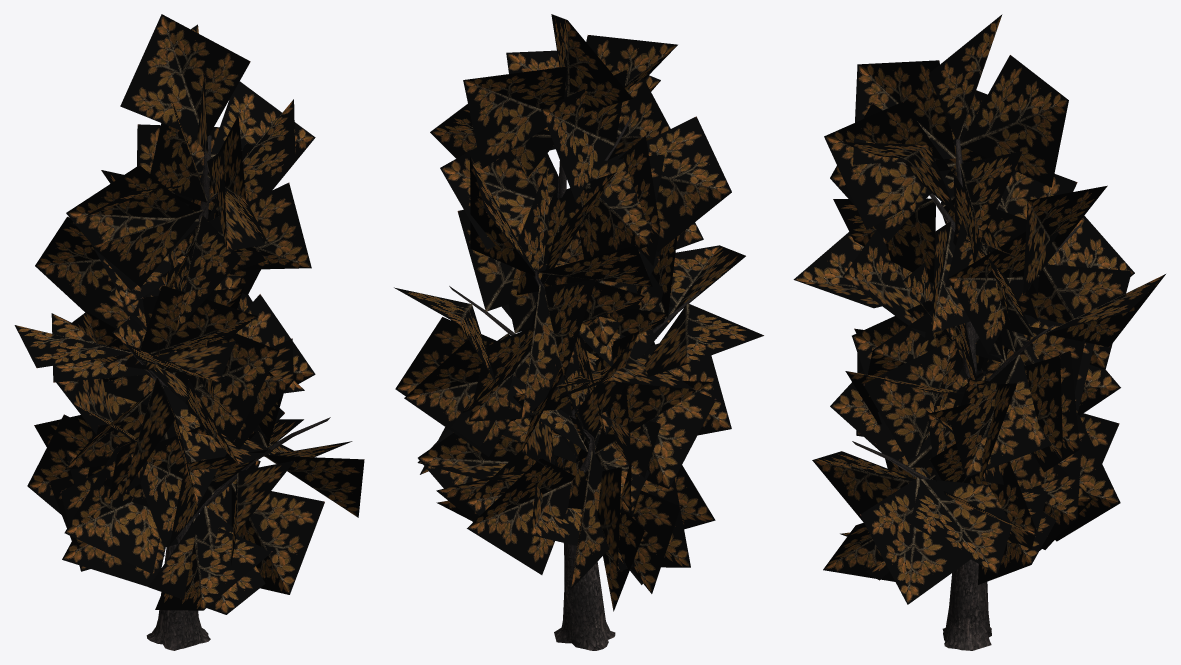
Rendered from tree_6.glb.
3 renders of one model, left to right at view 1: azimuth 30°, elevation 25°; view 2: azimuth 150°, elevation 25°; view 3: azimuth 270°, elevation 25°, orthographic. The views are drawn at different scales.
Visible parts, largest first — view 1: tree_6_leaves, tree_6; view 2: tree_6_leaves, tree_6; view 3: tree_6_leaves, tree_6.
Boxes of the visible parts, <box> form: tree_6_leaves: <box>14,14,364,614</box>; tree_6: <box>128,135,330,650</box>; tree_6_leaves: <box>394,14,763,611</box>; tree_6: <box>449,114,701,650</box>; tree_6_leaves: <box>793,14,1165,604</box>; tree_6: <box>852,139,1081,650</box>.
Size of the model in its own units: 3.2 by 6.06 by 3.29.
2 materials, 2 textured.
